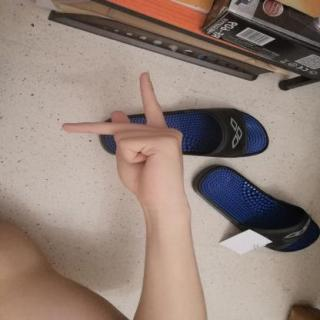DHAA: (51, 65, 193, 207)
